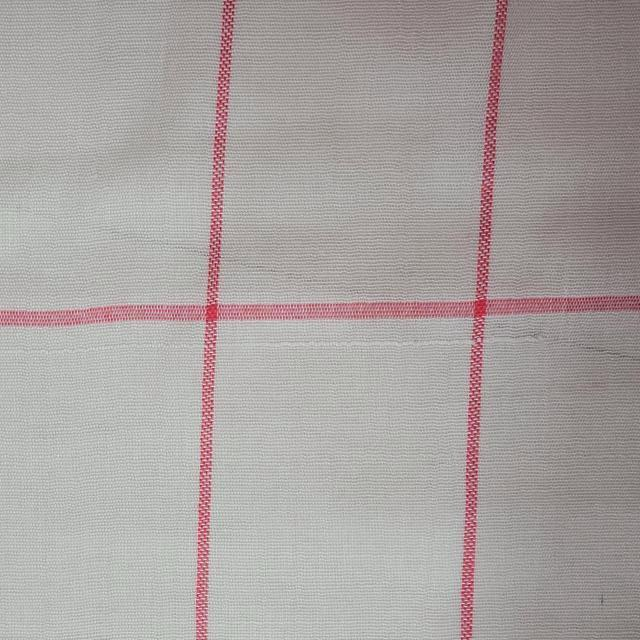pulled_or_thick_thread: (3, 333, 545, 359), (38, 344, 40, 352)
